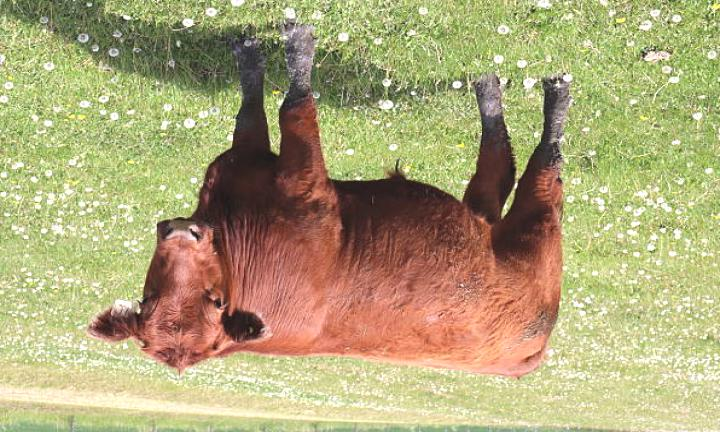Charolais: (89, 25, 570, 377)
